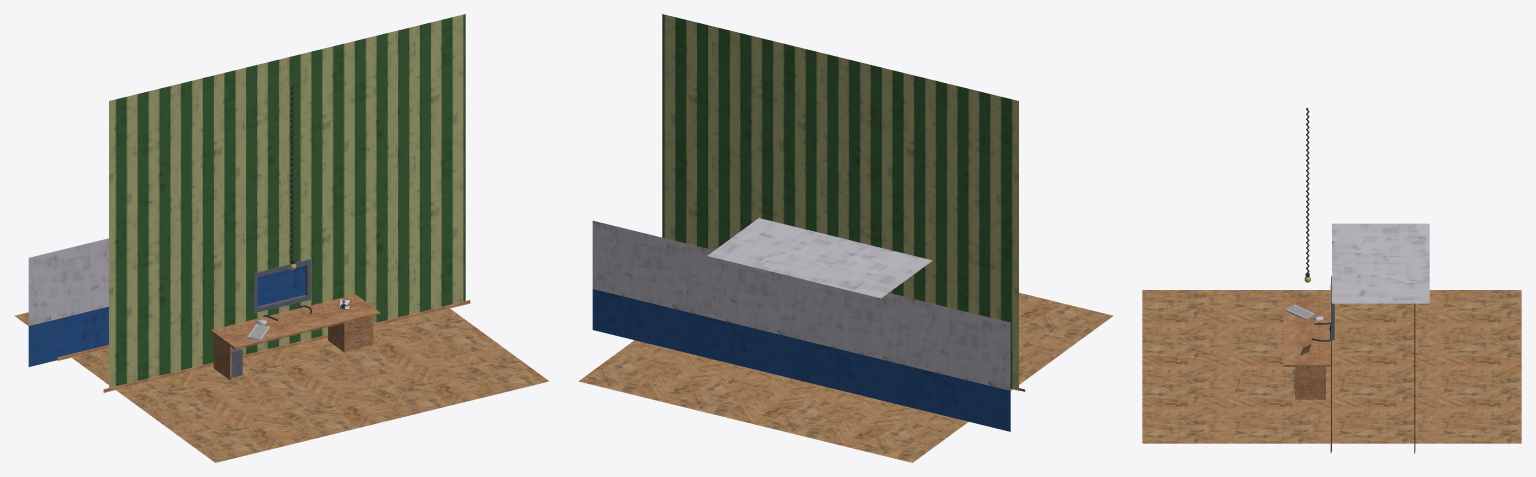
Rendered from location.fbx.
3 views of the same model, side by side, from view 1: azimuth 30°, elevation 25°; view 2: azimuth 150°, elevation 25°; view 3: azimuth 270°, elevation 25° (orthographic). The views are drawn at different scales.
Parts seen in each view (by area): view 1: Plane.009; view 2: Plane.009; view 3: Plane.009.
Part boxes in pixels (box(x1,y1,x2,y2)): Plane.009: box(14, 14, 549, 462); Plane.009: box(578, 14, 1113, 462); Plane.009: box(1142, 108, 1521, 453).
Bounding box in the file's own units: 12 × 7.97 × 10.
